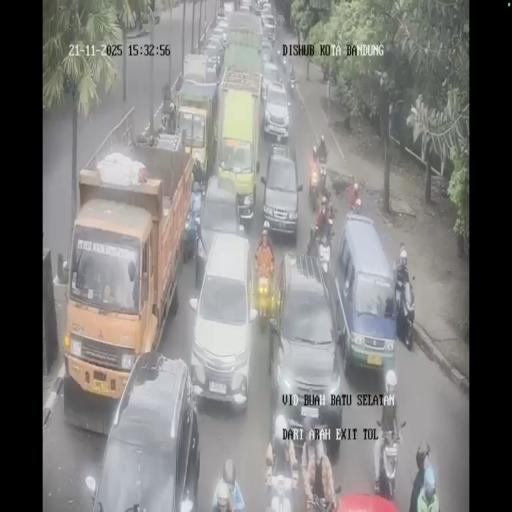3: (172, 68, 218, 179), (222, 7, 264, 80)
car: (89, 353, 199, 508), (269, 252, 343, 446), (334, 216, 395, 374), (194, 172, 244, 285), (261, 146, 301, 242), (262, 78, 290, 142), (202, 41, 224, 80), (260, 38, 274, 65), (263, 14, 275, 32), (216, 5, 228, 21), (239, 0, 252, 12), (262, 1, 272, 15), (253, 2, 262, 15)
truck: (374, 414, 407, 500), (264, 444, 298, 512), (394, 271, 416, 351), (254, 258, 276, 330), (160, 94, 176, 133), (316, 160, 328, 198), (318, 241, 331, 275), (350, 194, 362, 214), (290, 68, 296, 91)
